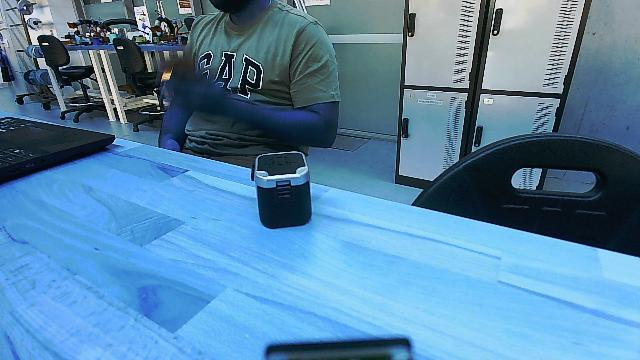adapter: (244, 146, 320, 238)
